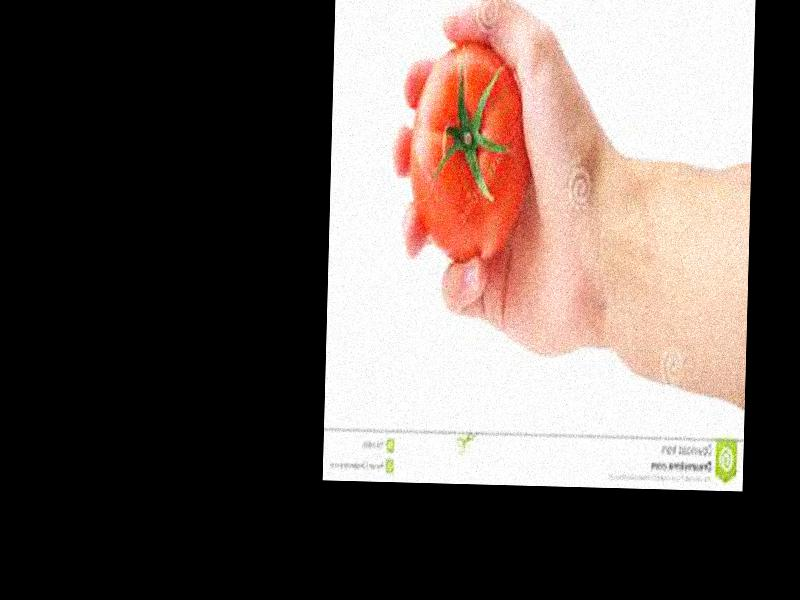Tomato: (407, 44, 529, 265)
